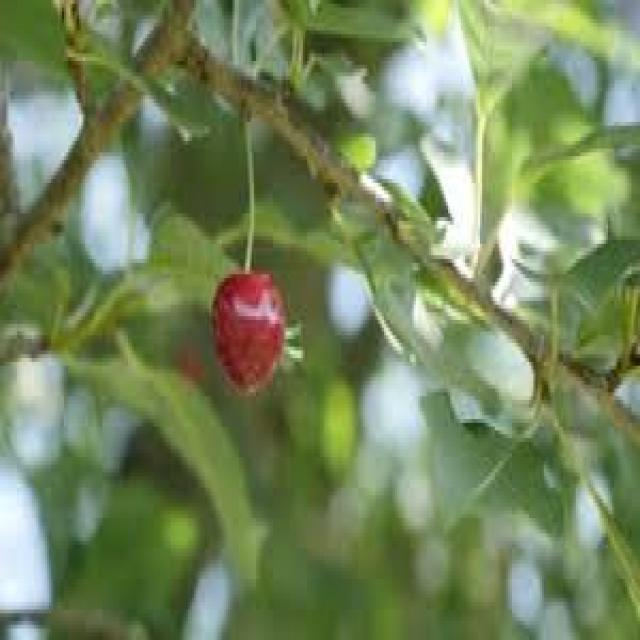organic waste: (207, 271, 284, 388), (172, 350, 202, 392)
